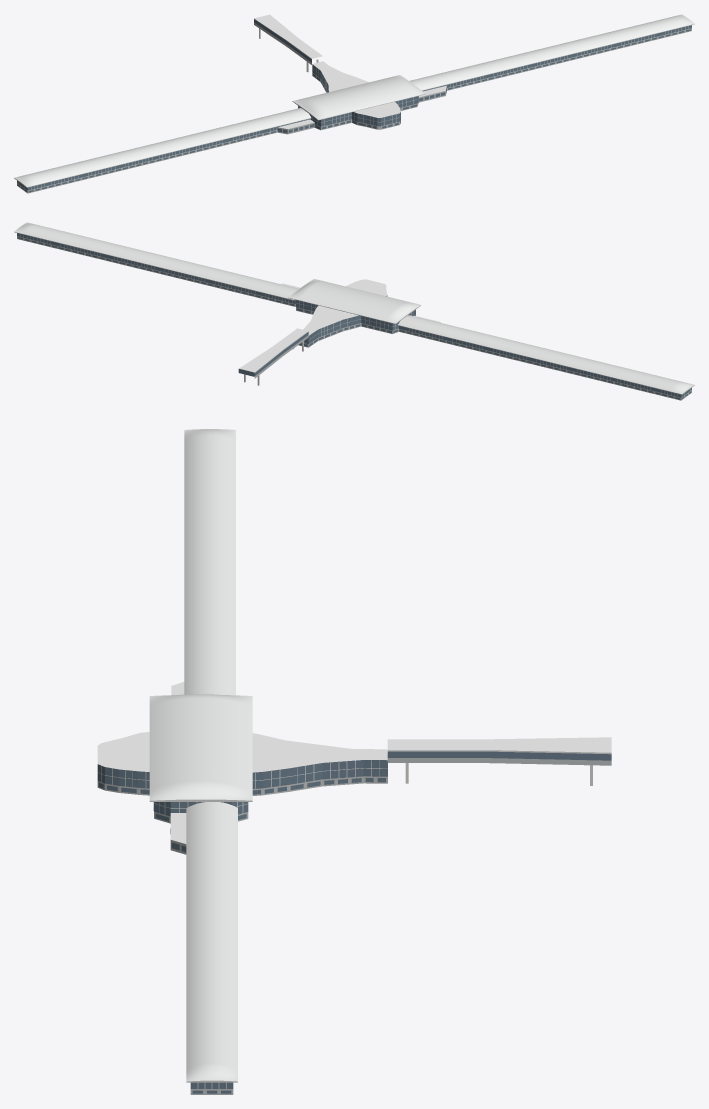
Rendered from kl-klia2-satellite.detail.glb.
3 renders of one model, top to bottom at view 1: azimuth 30°, elevation 25°; view 2: azimuth 150°, elevation 25°; view 3: azimuth 270°, elevation 25°, orthographic. The views are drawn at different scales.
Parts seen in each view (by area): view 1: klia2 satellite (piers P and Q, skybridge); view 2: klia2 satellite (piers P and Q, skybridge); view 3: klia2 satellite (piers P and Q, skybridge).
Part boxes in pixels (x1=…): klia2 satellite (piers P and Q, skybridge): x1=14, y1=14, x2=694, y2=193; klia2 satellite (piers P and Q, skybridge): x1=14, y1=222, x2=694, y2=400; klia2 satellite (piers P and Q, skybridge): x1=97, y1=429, x2=611, y2=1094.
Size of the model in its own units: 1188 by 28.5 by 396.
